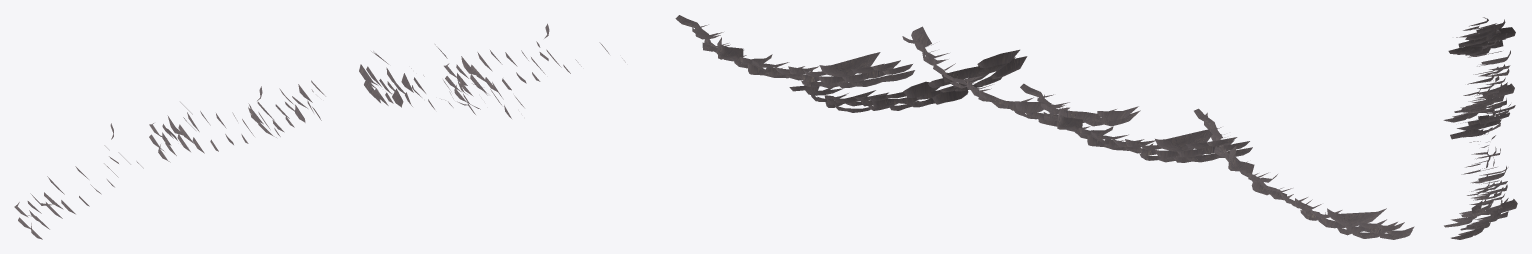
Rendered from part_uppercrust_default.glb.
3 renders of one model, left to right at view 1: azimuth 30°, elevation 25°; view 2: azimuth 150°, elevation 25°; view 3: azimuth 270°, elevation 25°, orthographic. The views are drawn at different scales.
Visible parts, largest first — view 1: rsrc.world.skybox.clockwork_tunnels.tier1.parts.crust_upper_ (×5); view 2: rsrc.world.skybox.clockwork_tunnels.tier1.parts.crust_upper_ (×5); view 3: rsrc.world.skybox.clockwork_tunnels.tier1.parts.crust_upper_ (×5).
Part boxes in pixels (<box>): rsrc.world.skybox.clockwork_tunnels.tier1.parts.crust_upper_ (×5): <box>14,23,625,239</box>; rsrc.world.skybox.clockwork_tunnels.tier1.parts.crust_upper_ (×5): <box>675,15,1414,239</box>; rsrc.world.skybox.clockwork_tunnels.tier1.parts.crust_upper_ (×5): <box>1443,17,1517,239</box>.
Bounding box in the file's own units: 11.43 × 1.75 × 1.55.
1 material, 1 textured.
